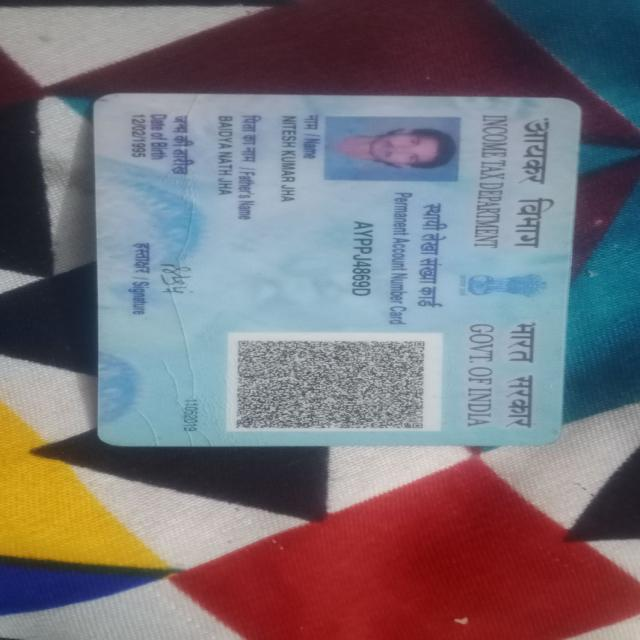pan_card: (90, 95, 583, 444)
